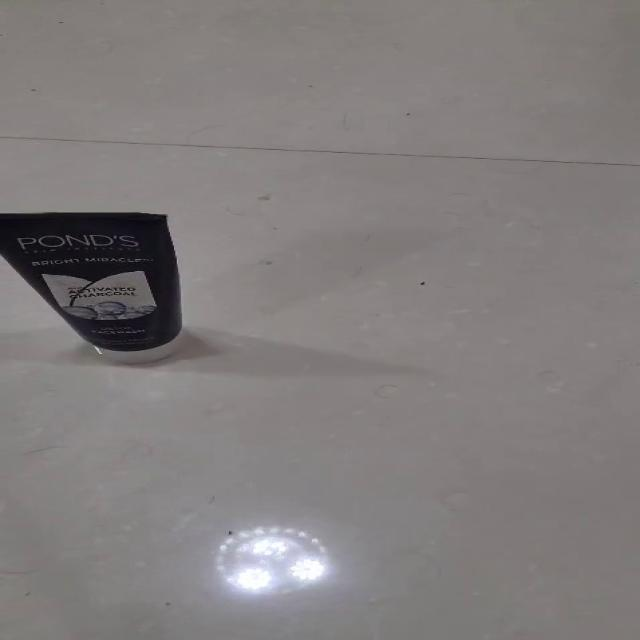plastic: (0, 211, 183, 363)
